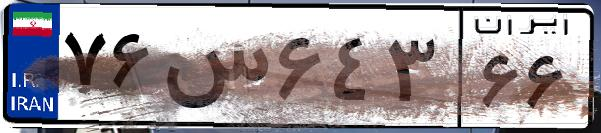3: (385, 28, 445, 110)
4: (330, 28, 385, 110)
6: (270, 28, 330, 110), (475, 38, 525, 113), (525, 38, 570, 115), (110, 28, 158, 98)
7: (57, 26, 110, 100)
س: (158, 20, 270, 120)
